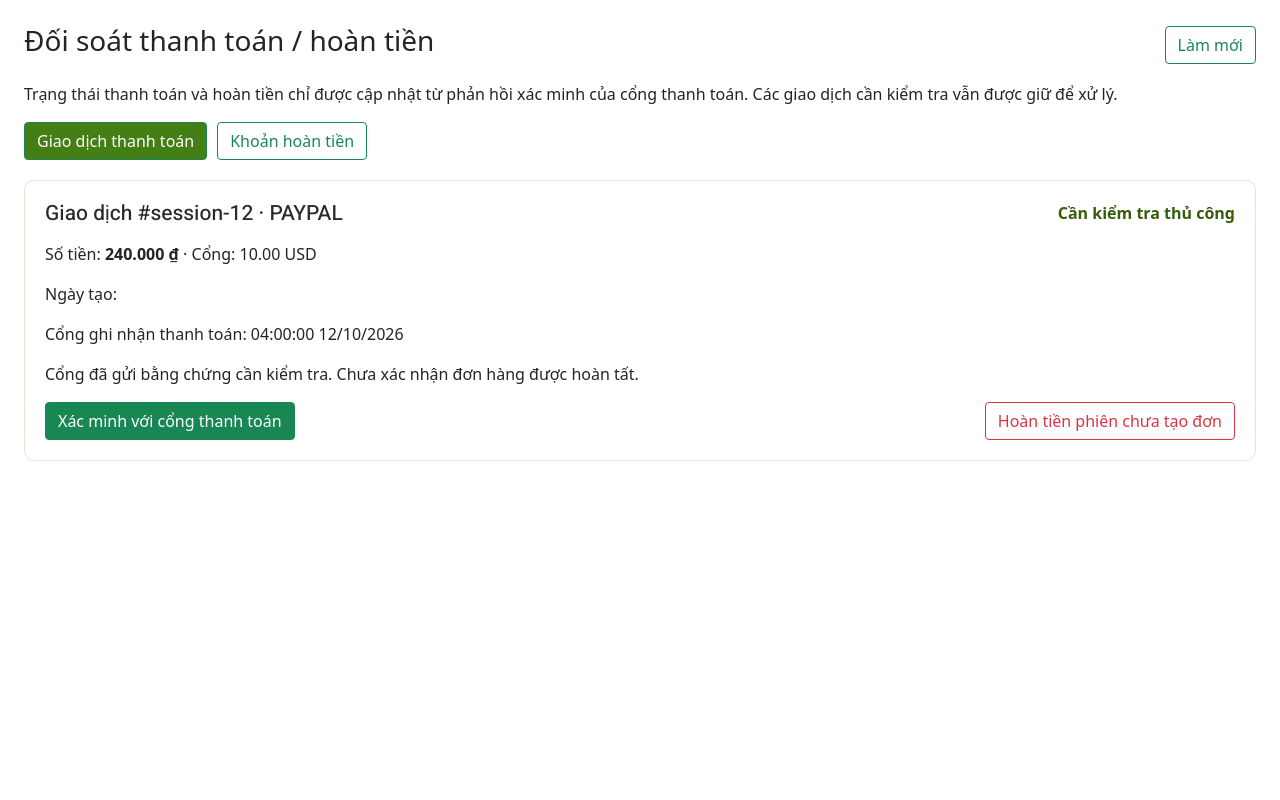
Test: changing reconciliation tabs clears an open orphan refund form
Click the button "Hoàn tiền phiên chưa tạo đơn": [1110, 421] box 985,402 -> 1235,440
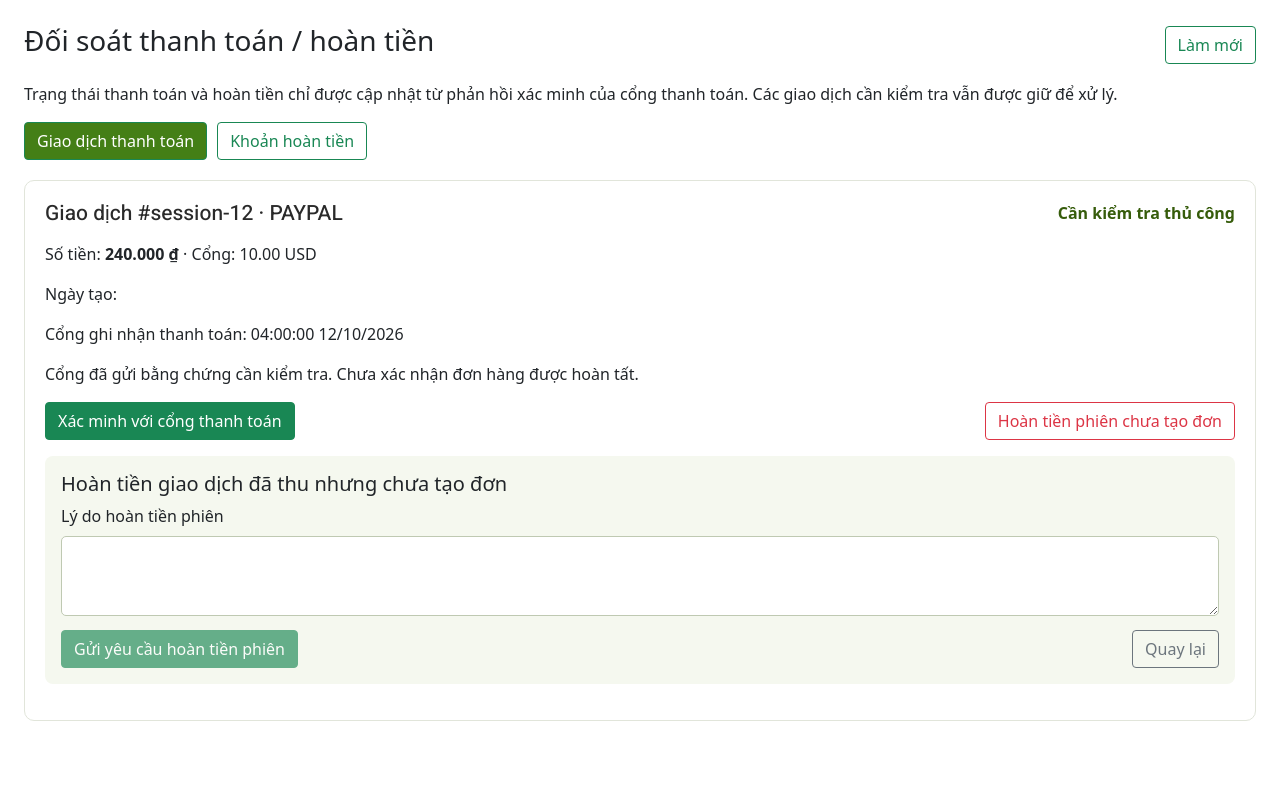
In the text box labelled "Lý do hoàn tiền phiên": [640, 576] box 61,536 -> 1219,616, type "Lý do phiên trước"
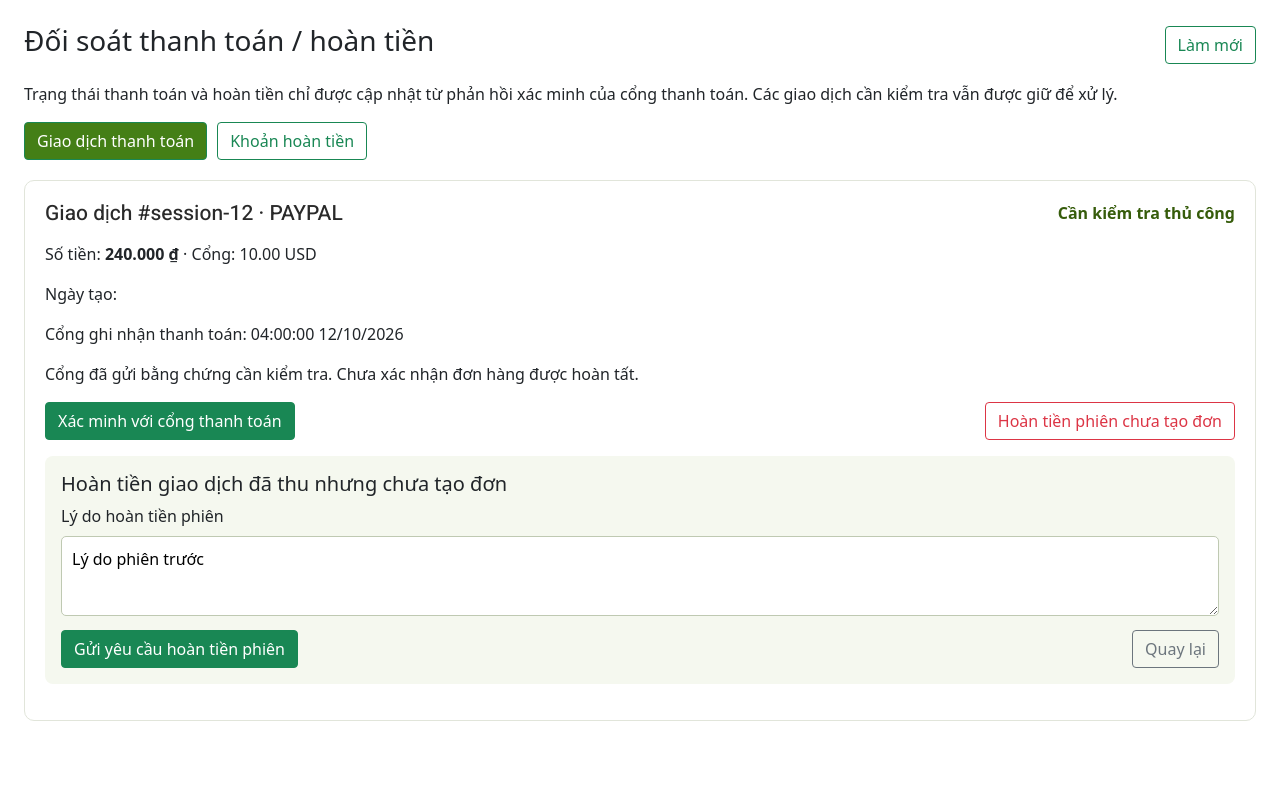
Click the tab "Khoản hoàn tiền": [292, 141] box 217,122 -> 367,160
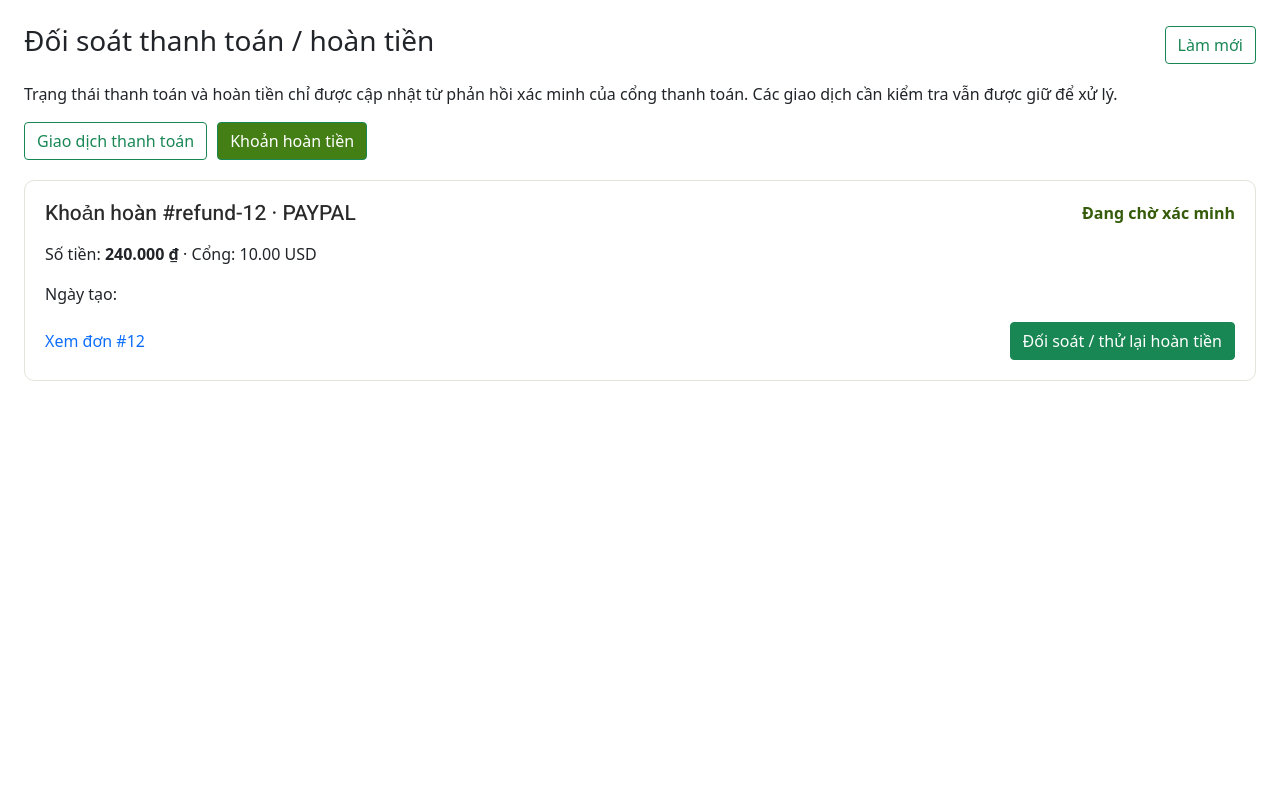
Check: the element named "Khoản hoàn refund-12" is shown, box 24,180 -> 1256,381
Click the tab "Giao dịch thanh toán": [116, 141] box 24,122 -> 207,160
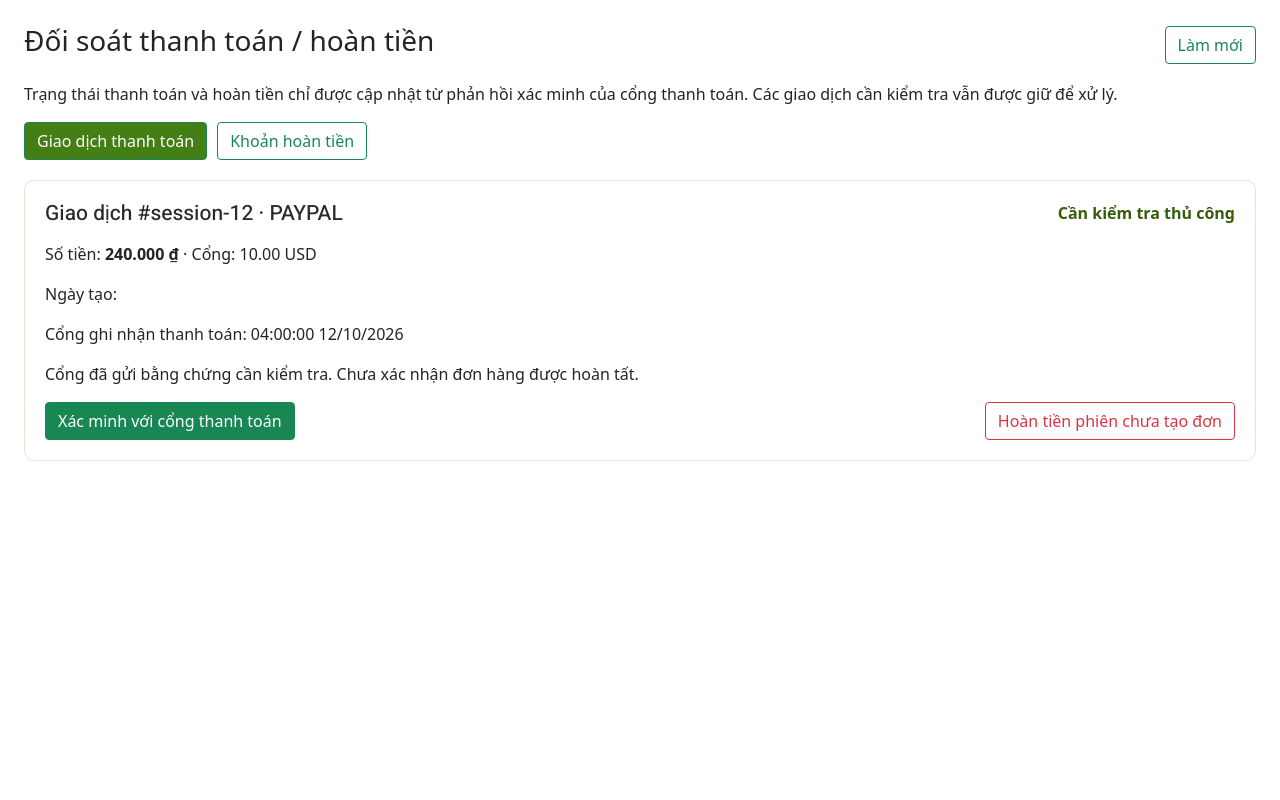
Check: the label labelled "Lý do hoàn tiền phiên" is not shown
Check: the element named "Giao dịch session-12" is shown, box 24,180 -> 1256,461
